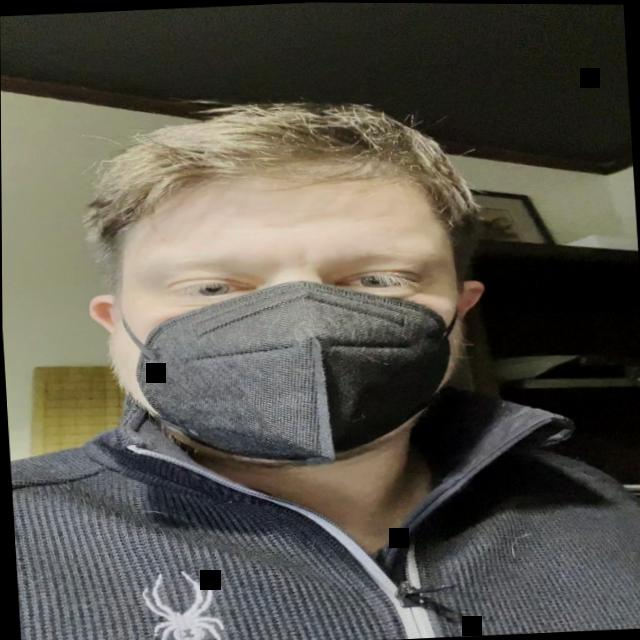Mask: (102, 170, 470, 471)
